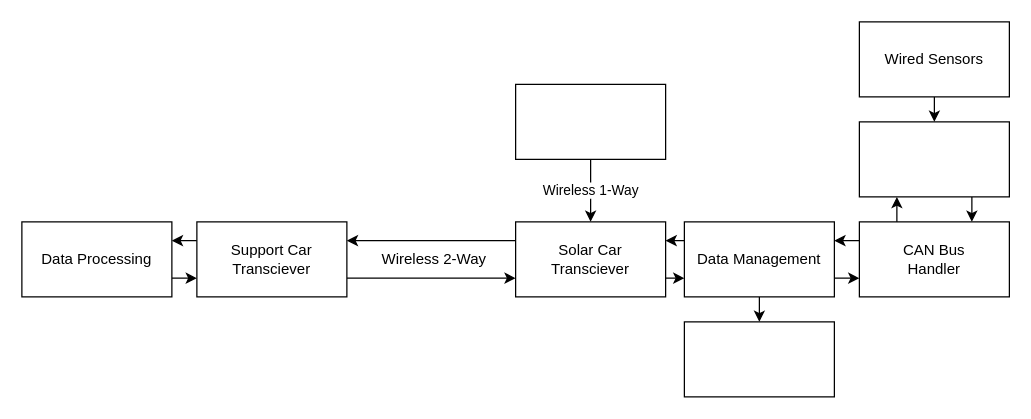
The diagram is 1031 pixels wide and 419 high, and some of its shapes have lost their labels. Each missing label, with the centre of its shape:
CAN Bus: pixel 933 159
Data Storage "Black Box": pixel 758 359
Wireless Sensors: pixel 590 121
